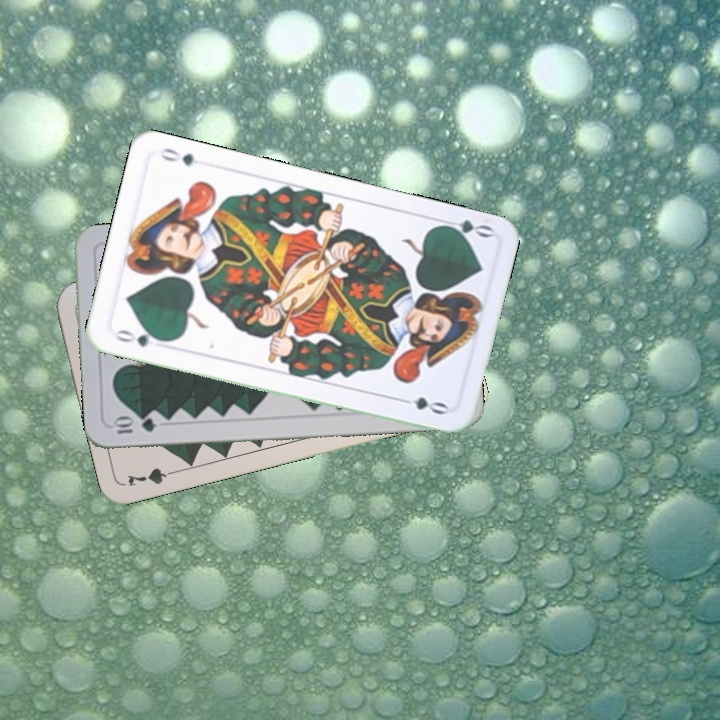G10: (110, 414, 158, 437)
G7: (123, 463, 182, 489)
GO: (435, 214, 495, 243), (110, 325, 169, 350)
